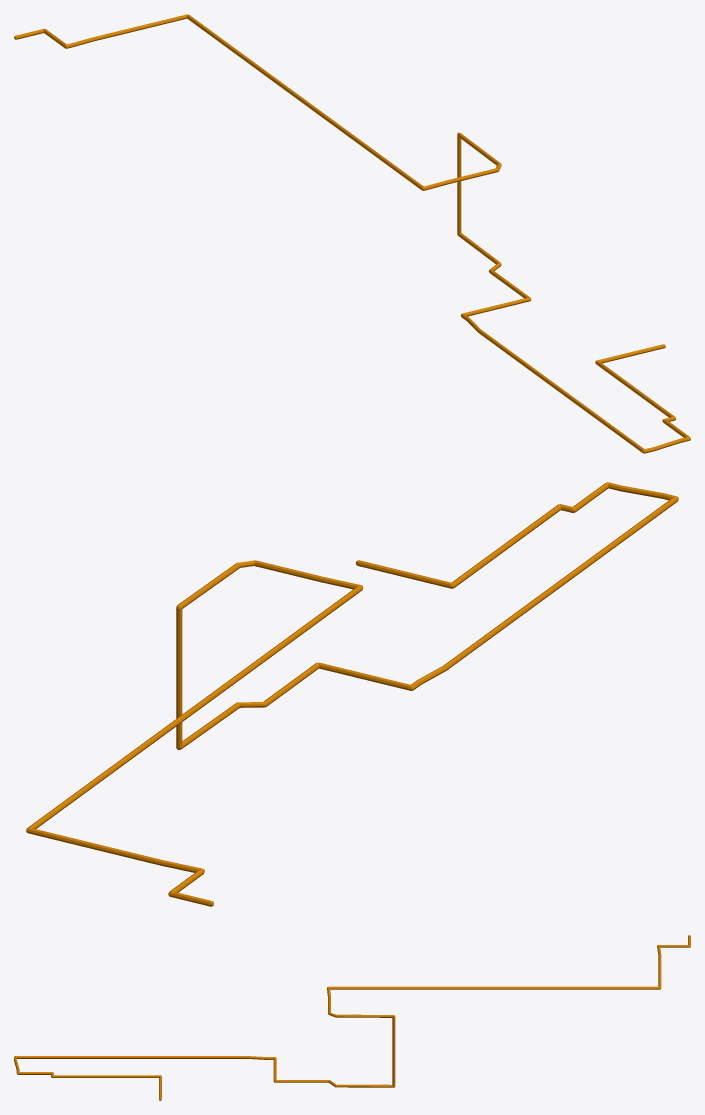
3 views of the same model, one above another, from view 1: azimuth 30°, elevation 25°; view 2: azimuth 150°, elevation 25°; view 3: azimuth 270°, elevation 25° (orthographic). The views are drawn at different scales.
Size of the model in its own units: 1450 by 520 by 4393.
